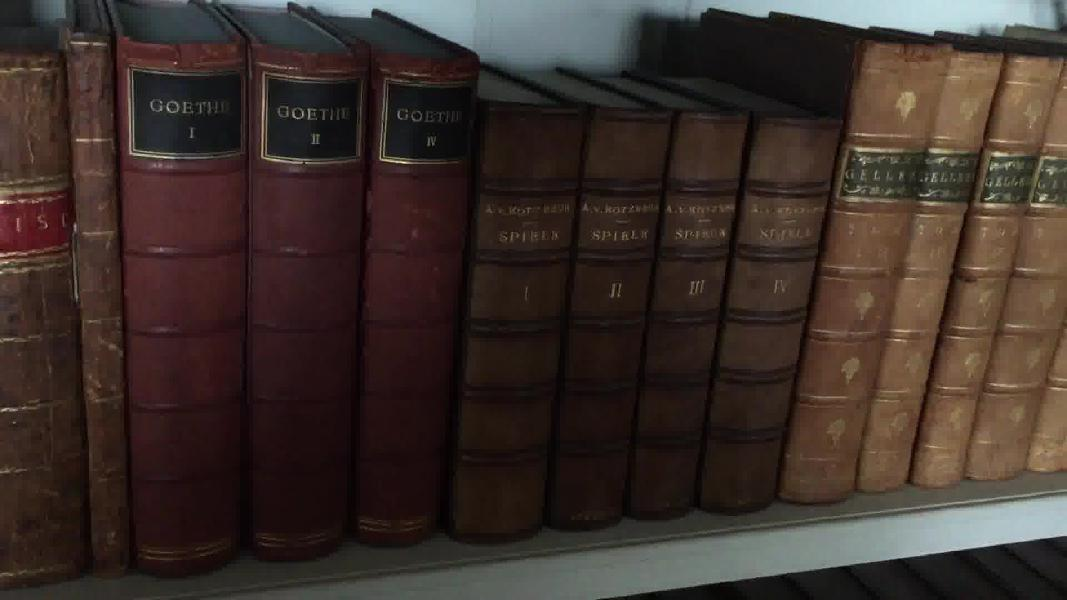Aa6-10: (58, 27, 146, 592)
Aa6-11_13: (108, 24, 481, 575)
Aa6-14_17: (448, 86, 850, 559)
Aa6-18_23: (800, 19, 1067, 515)
